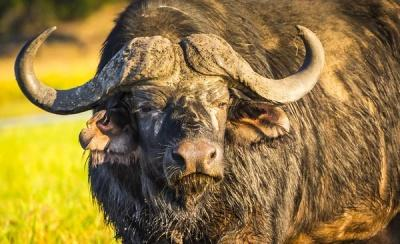buffalo: (15, 0, 399, 243)
